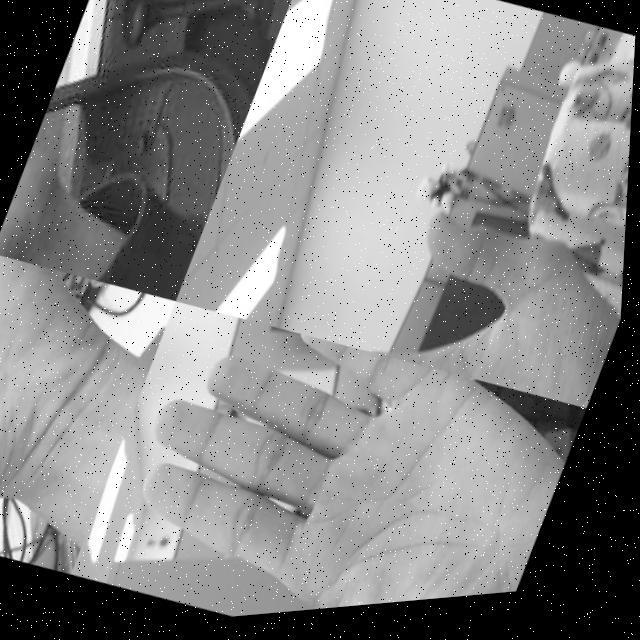no-gloves: (98, 283, 597, 632), (291, 122, 633, 440), (0, 240, 182, 583), (0, 90, 215, 308)
